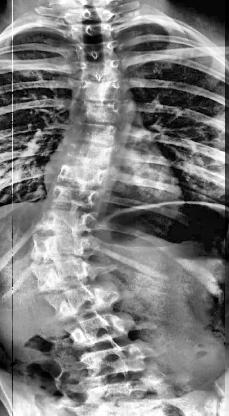Vertebrae: (48, 286, 119, 324), (82, 342, 152, 378), (67, 315, 133, 349), (32, 258, 100, 288), (30, 232, 96, 262), (32, 206, 96, 233), (59, 141, 119, 169), (42, 184, 104, 210), (54, 164, 116, 190), (70, 120, 126, 146), (76, 100, 126, 126), (76, 78, 128, 102), (76, 59, 124, 81), (73, 40, 121, 62), (71, 22, 119, 43), (65, 7, 115, 25)
